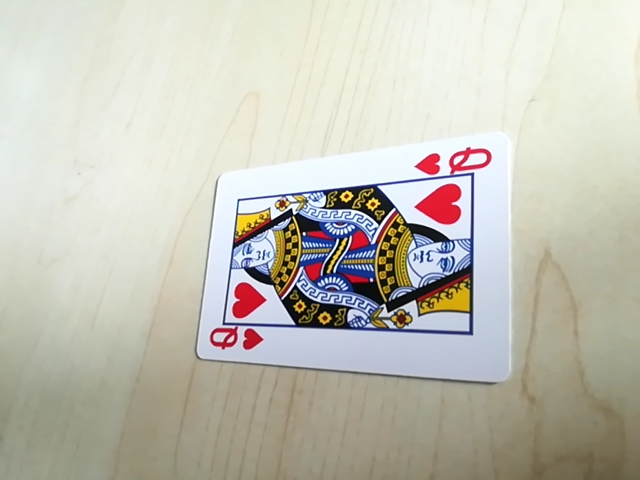hx q: (414, 144, 497, 182), (204, 324, 265, 358)
